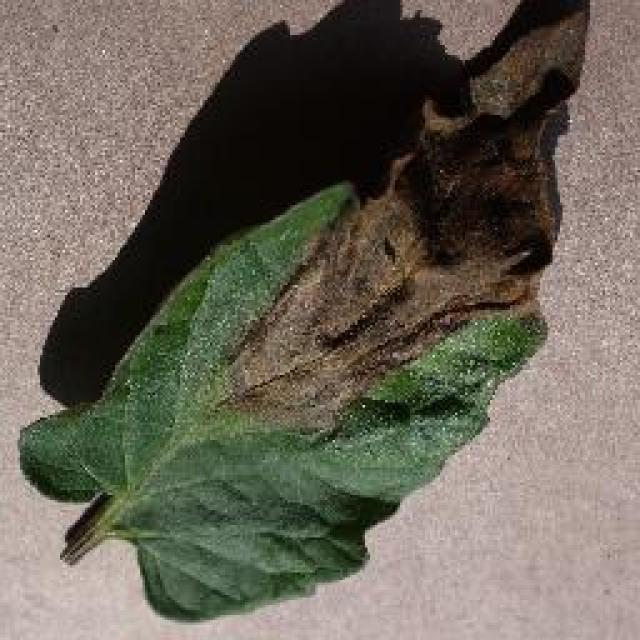Tomato___Late_blight: (14, 0, 596, 624)
